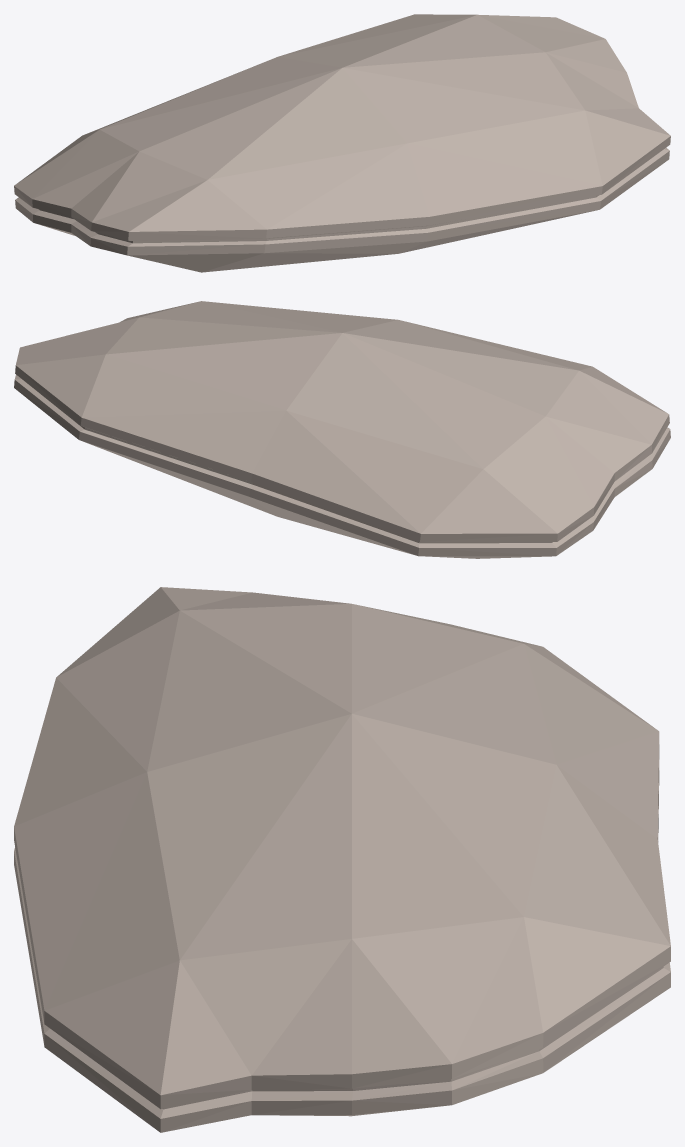
Rendered from SM_Pillow_02.glb.
3 views of the same model, one above another, from view 1: azimuth 30°, elevation 25°; view 2: azimuth 150°, elevation 25°; view 3: azimuth 270°, elevation 25° (orthographic). The views are drawn at different scales.
Parts seen in each view (by area): view 1: SM_Pillow_02; view 2: SM_Pillow_02; view 3: SM_Pillow_02.
Boxes of the visible parts, bbox=[...] form: SM_Pillow_02: bbox=[14, 14, 670, 272]; SM_Pillow_02: bbox=[14, 301, 670, 558]; SM_Pillow_02: bbox=[14, 587, 670, 1132].
Bounding box in the file's own units: 0.6651 × 0.1913 × 0.3894.
Materials: 1 (1 with a texture image).
